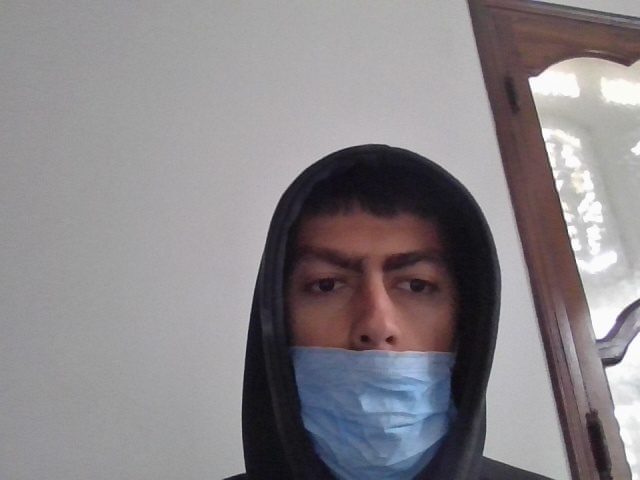mask_weared_incorrect: (290, 203, 467, 479)
